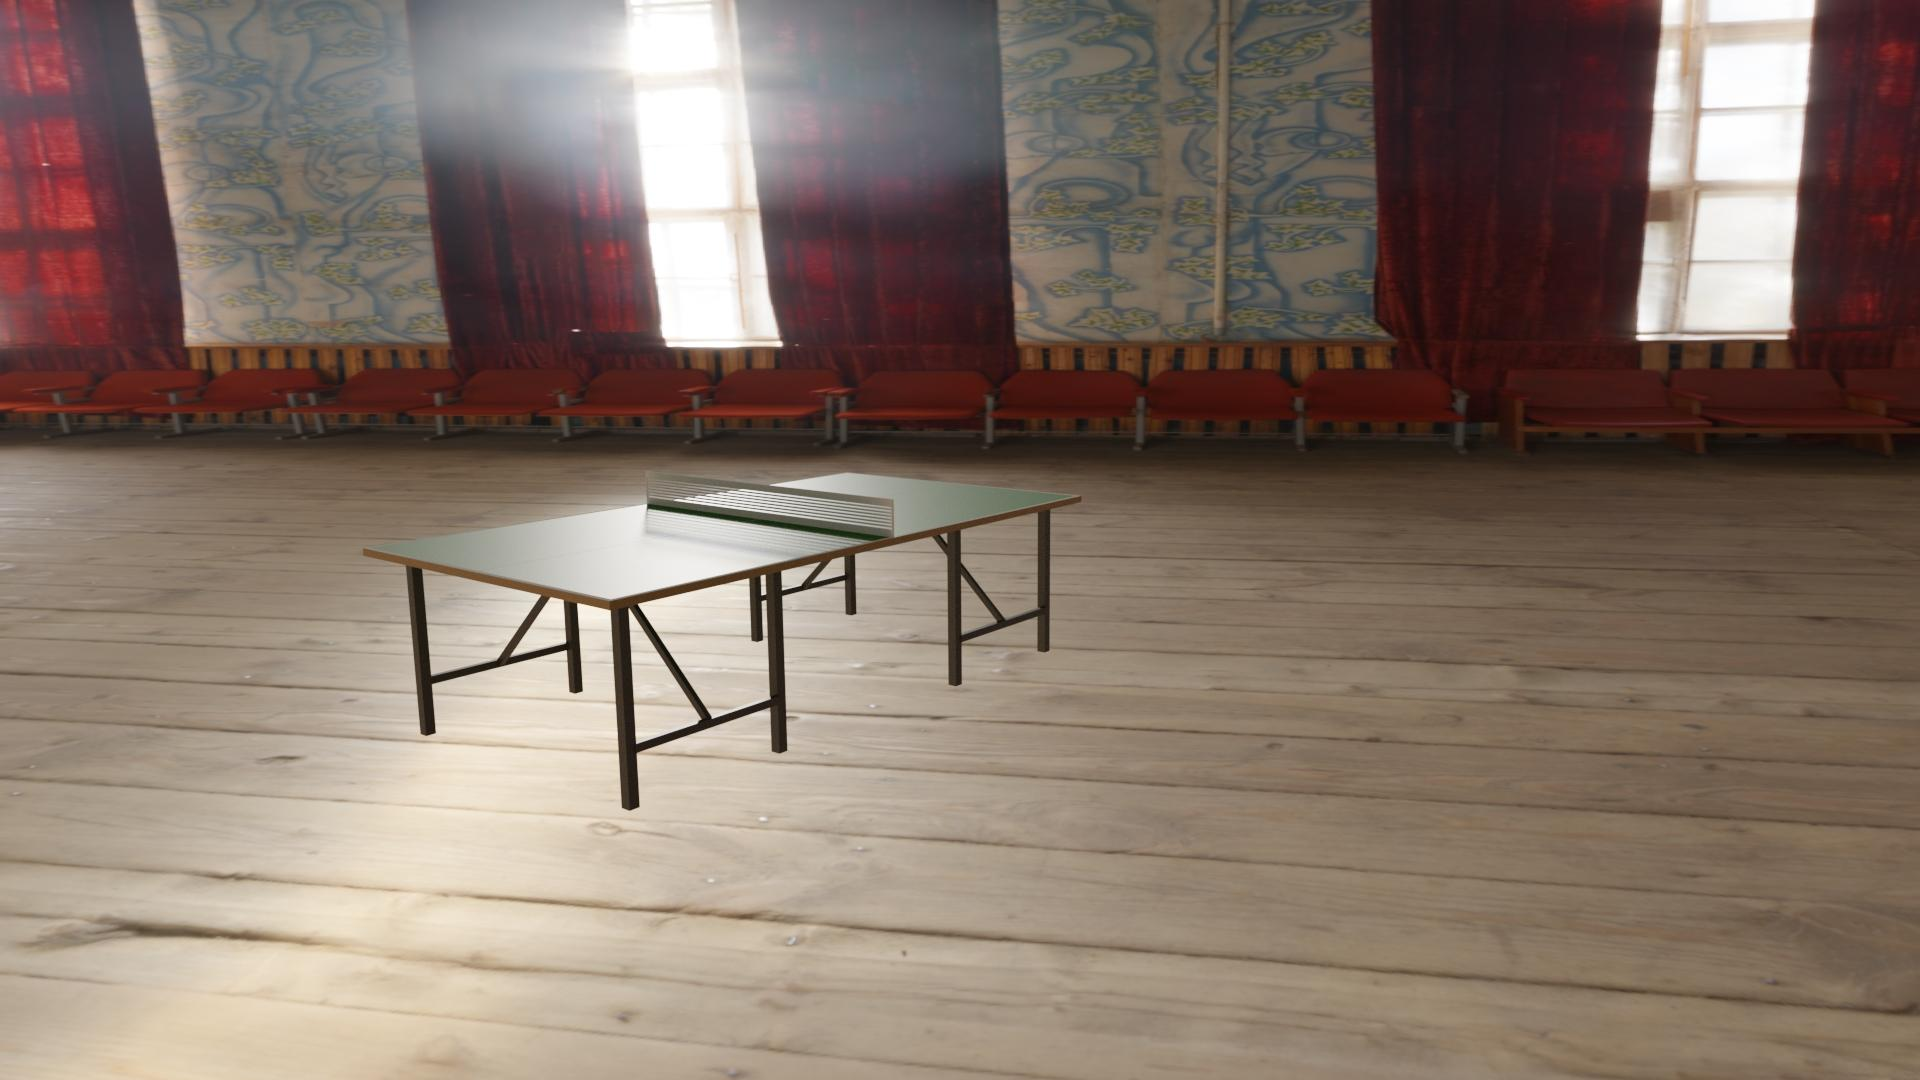table: (371, 473, 1076, 599)
